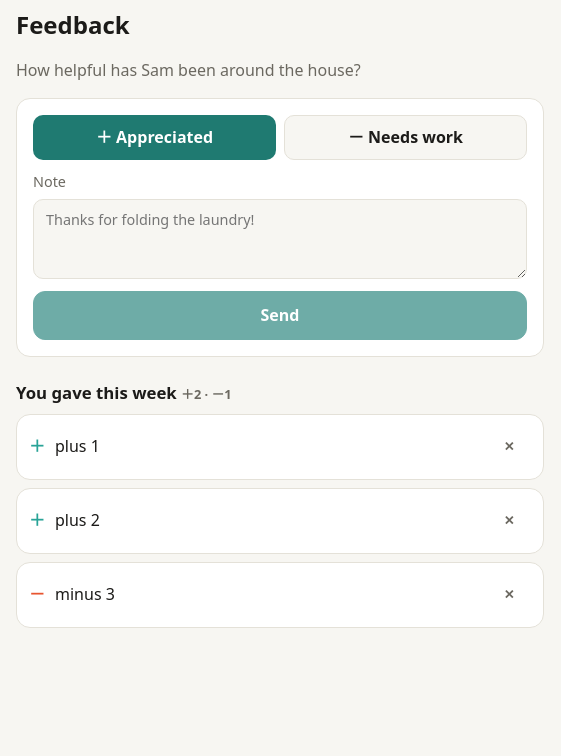
Test case: warns while composing a negative that would break the ratio
This screenshot has width=561, height=756.
What coordinates should you click on to do the following:
click the radio button labelled "－ Needs work"
I would click on:
 (406, 138)
Its box is [284,115,527,160].
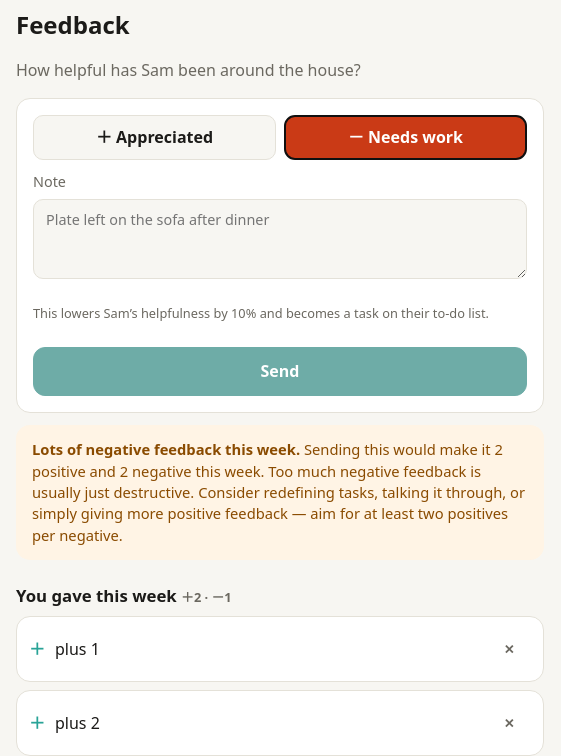
Check: the message does not show "so far", box [16,425,544,560]
Check: the message is shown, box [16,425,544,560]
Check: the message shows "Sending this would make it 2 positive and 2 negative this week.", box [32,439,503,481]
